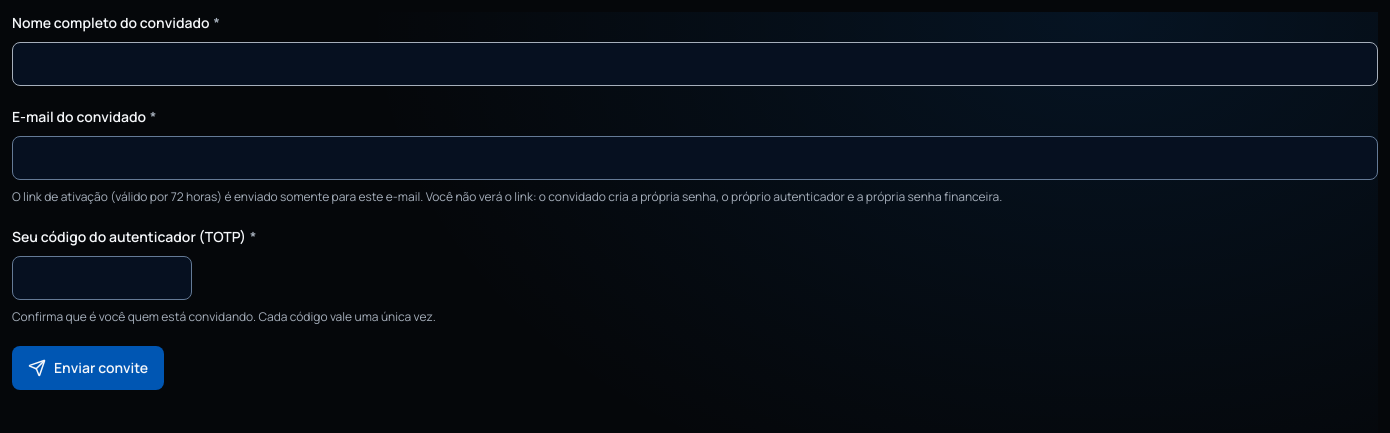
Scenario: formulário de convite › e-mail já cadastrado e TOTP inválido ficam junto do campo; o TOTP é limpo (uso único)
Type "Maria Souza" into the field labelled "Nome completo do convidado*" at (695, 64), box top-left (12, 42), bottom-right (1378, 86)
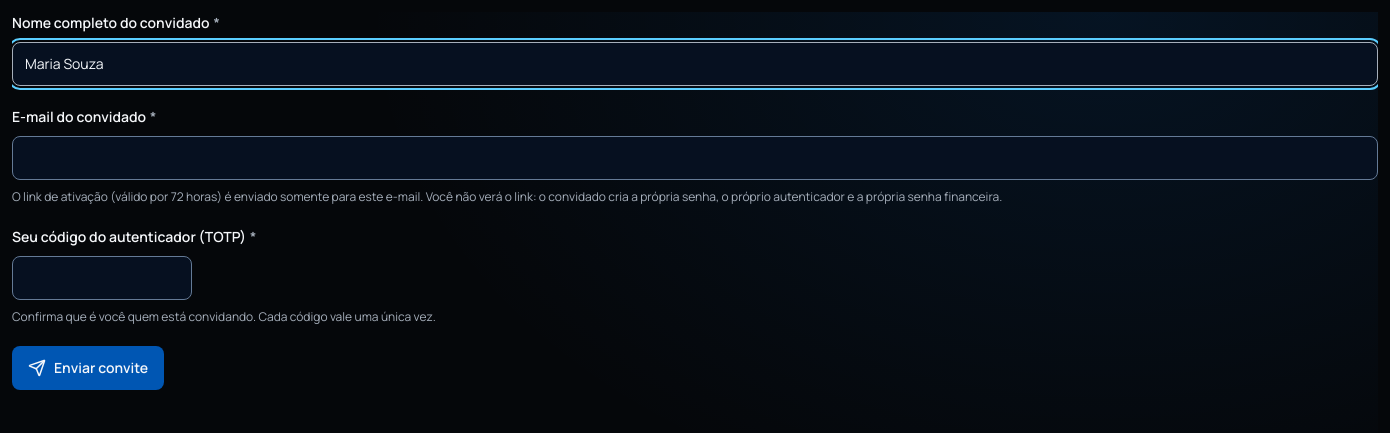
Type "maria@rd.invalid" into the field labelled "E-mail do convidado*" at (695, 158), box top-left (12, 136), bottom-right (1378, 180)
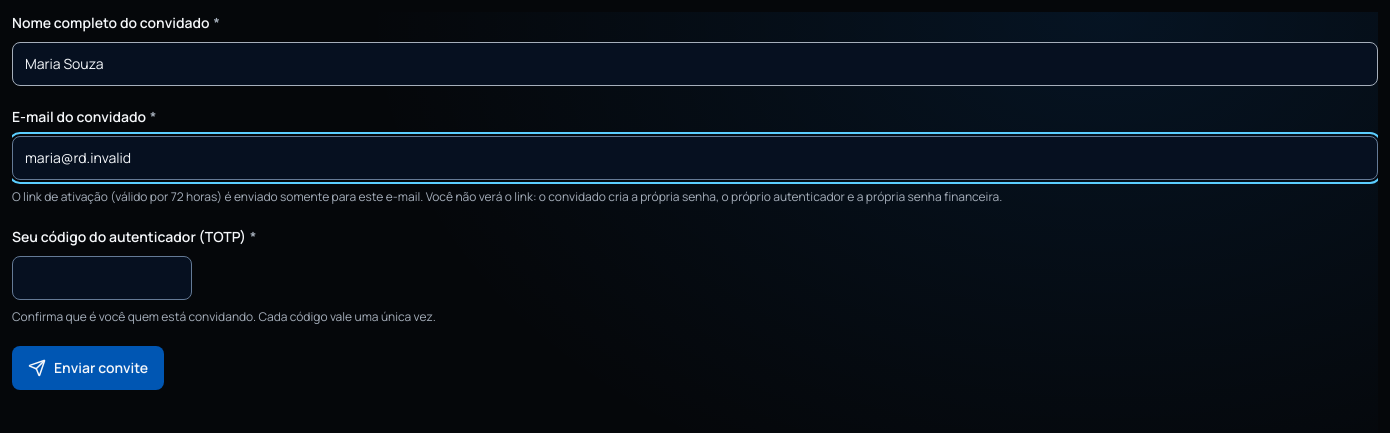
Type "123456" into the field labelled "Seu código do autenticador (TOTP)*" at (102, 278), box top-left (12, 256), bottom-right (192, 300)
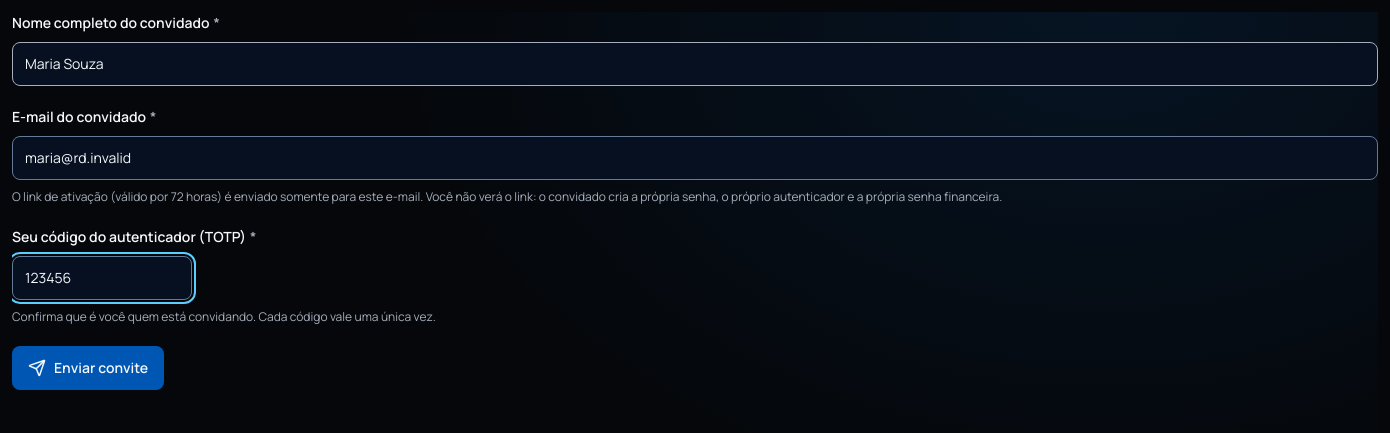
Click the button "Enviar convite" at (88, 368), box top-left (12, 346), bottom-right (164, 390)
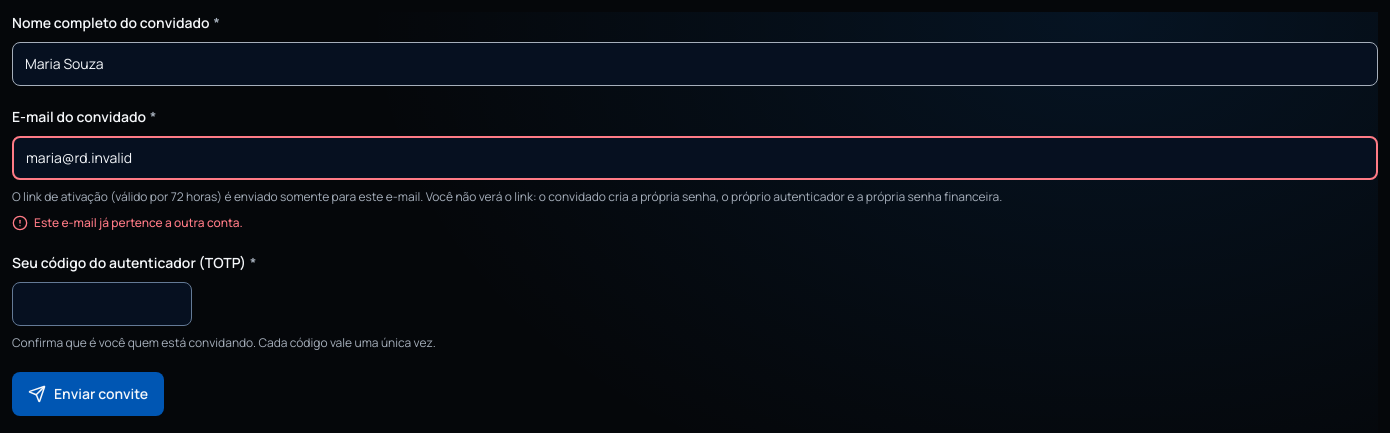
Now the text "Este e-mail já pertence a outra conta." is shown, box top-left (34, 214), bottom-right (243, 232)
Now the field labelled "Seu código do autenticador (TOTP)*" is empty
Type "654321" into the field labelled "Seu código do autenticador (TOTP)*" at (102, 304), box top-left (12, 282), bottom-right (192, 326)
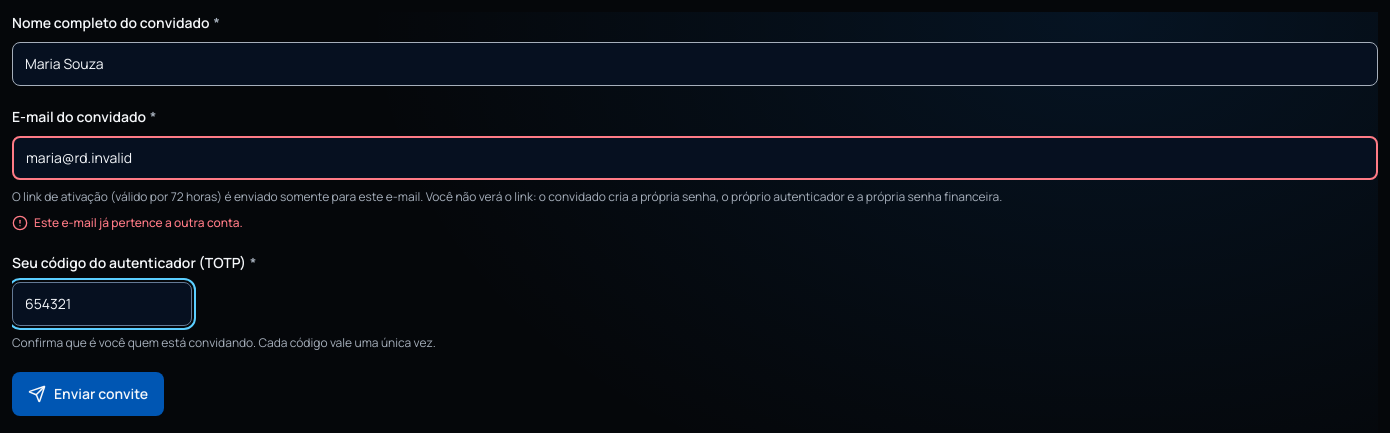
Click the button "Enviar convite" at (88, 394), box top-left (12, 372), bottom-right (164, 416)
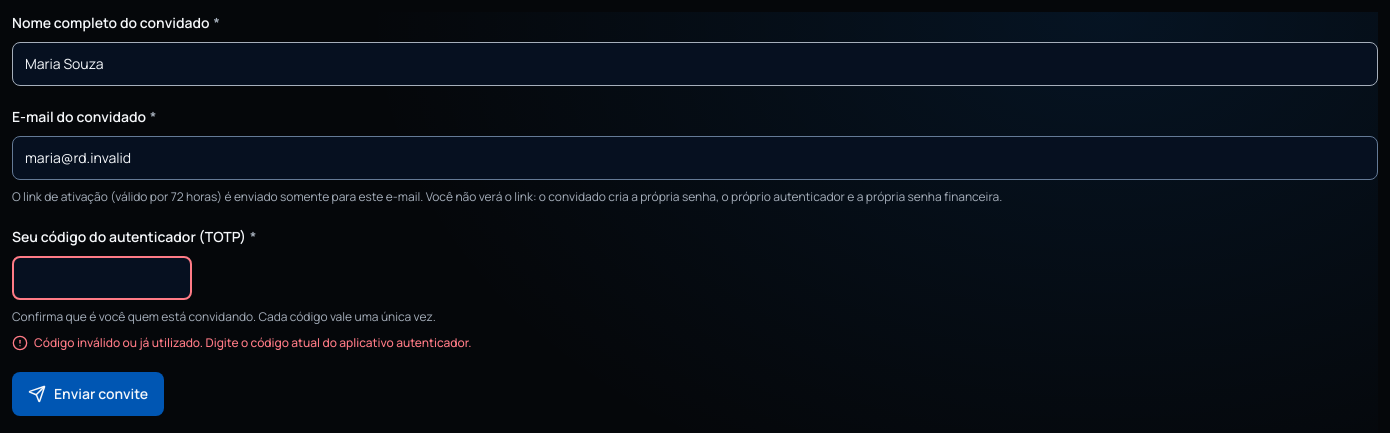
Now the text "Código inválido ou já utilizado" is shown, box top-left (34, 334), bottom-right (472, 351)
